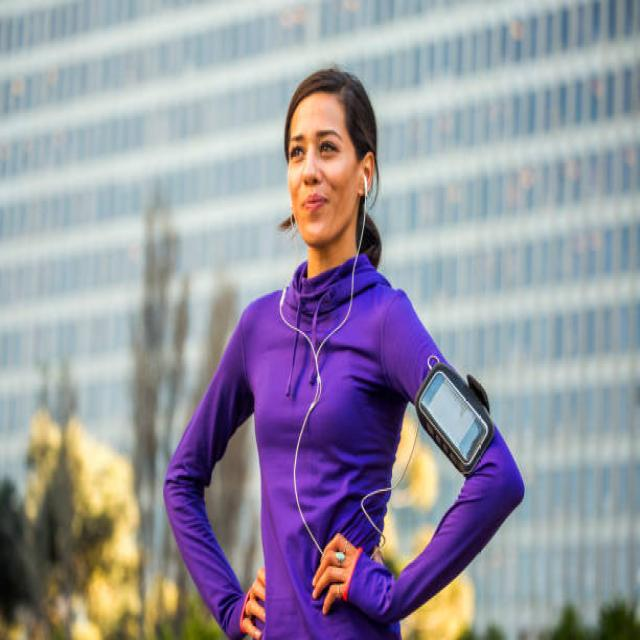Earphone: (278, 170, 369, 532)
